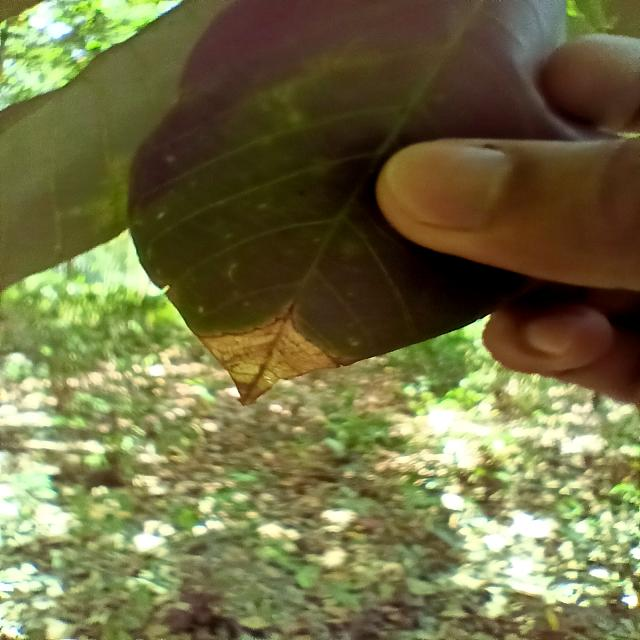Leaf-Blight: (198, 317, 339, 407)
